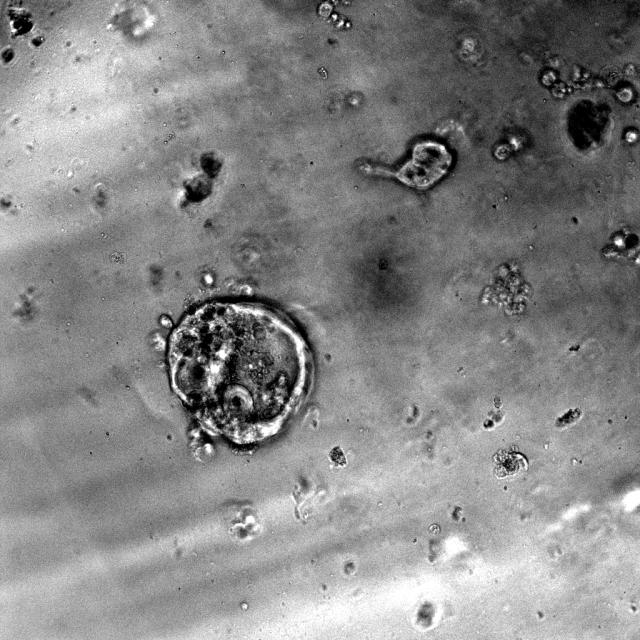organoid: (154, 297, 314, 457), (354, 136, 454, 191), (538, 63, 639, 105), (480, 262, 531, 316), (181, 151, 222, 208), (567, 100, 611, 150), (602, 226, 639, 264), (492, 127, 530, 162), (493, 446, 528, 478), (316, 0, 351, 29), (6, 0, 33, 36), (0, 46, 14, 64), (31, 36, 44, 46)
